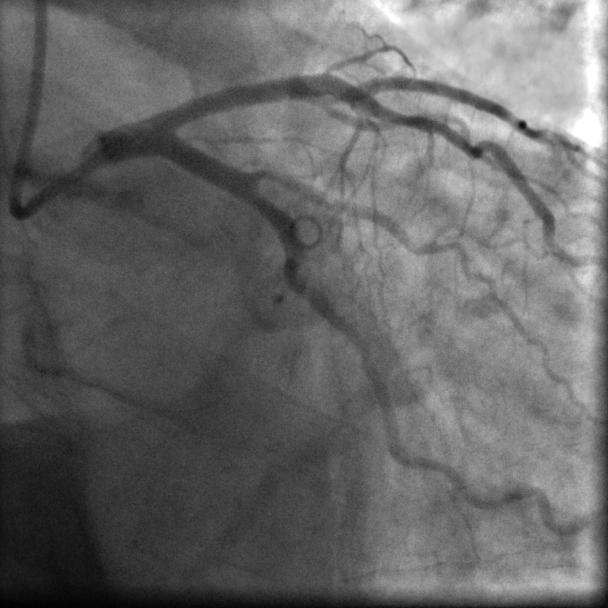Stenosis: (248, 160, 282, 190)
